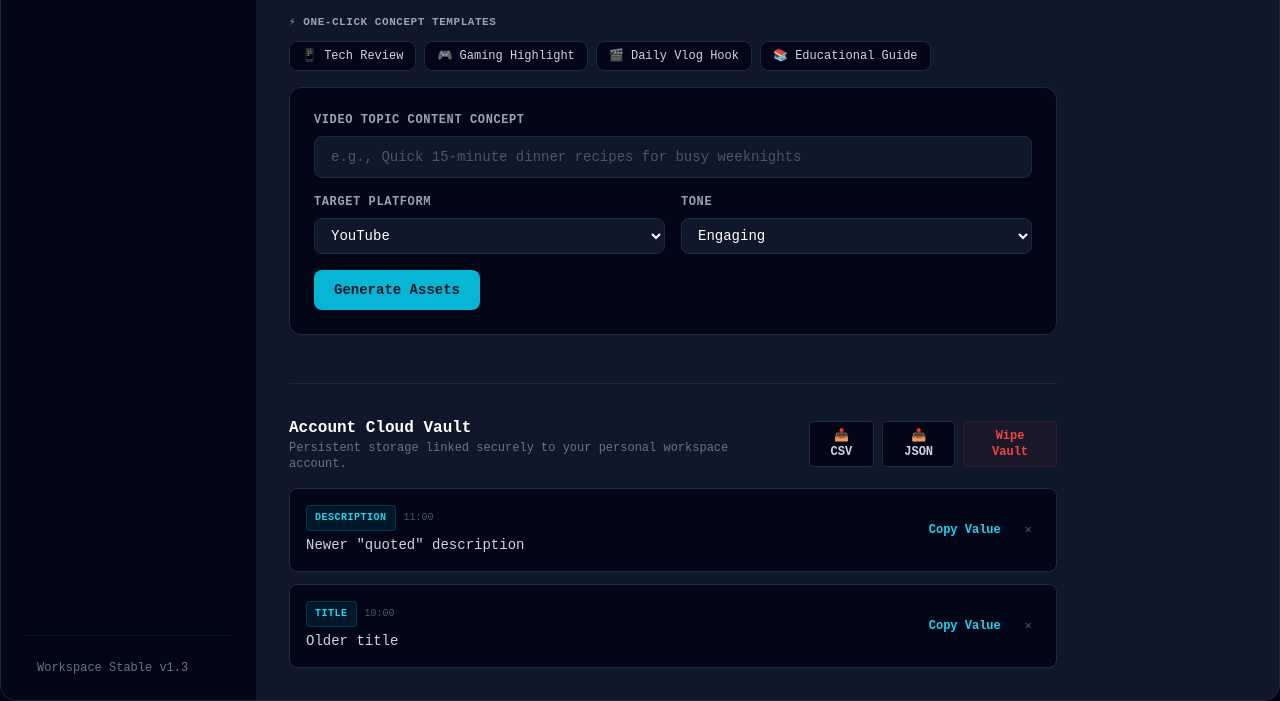
AIToolStudio — Cloud Vault › export › exports JSON without internal id/userId fields
(page scrolled)
Click the button "📥 JSON".
click(919, 444)  # box [882,421,955,467]
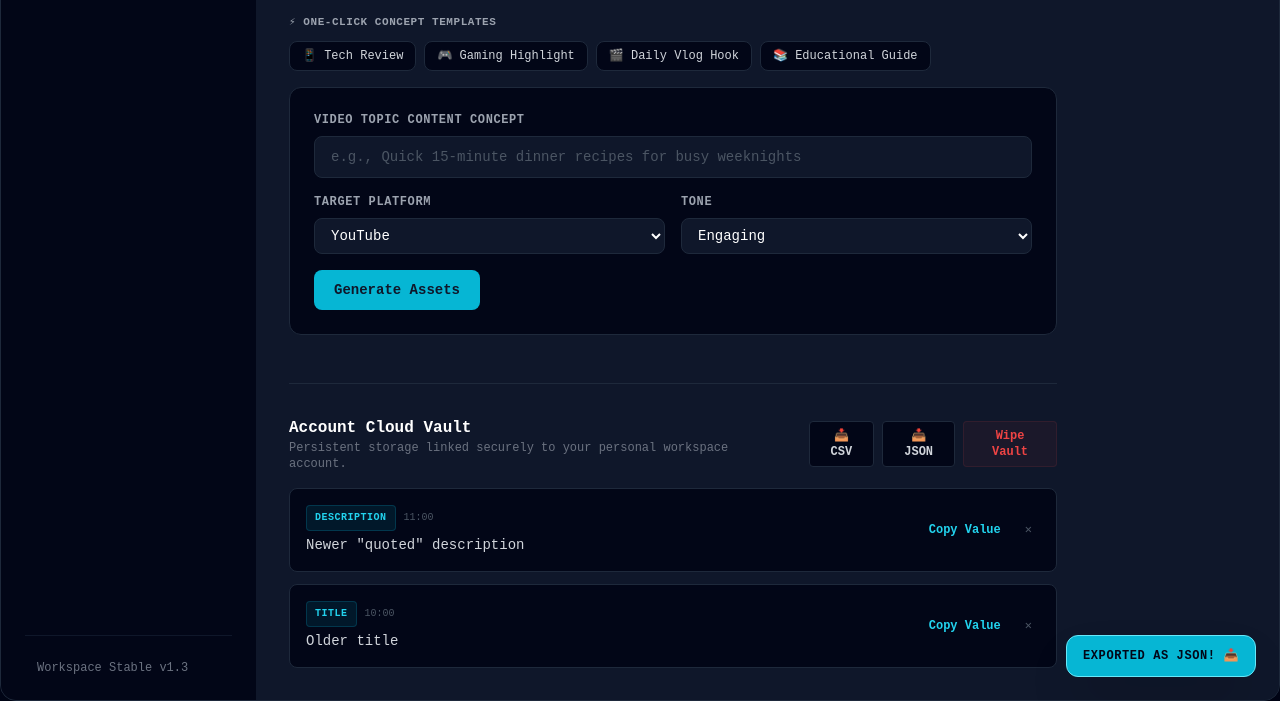
Check: the text "Exported as JSON! 📥" is shown, box [1083,648,1239,664]
